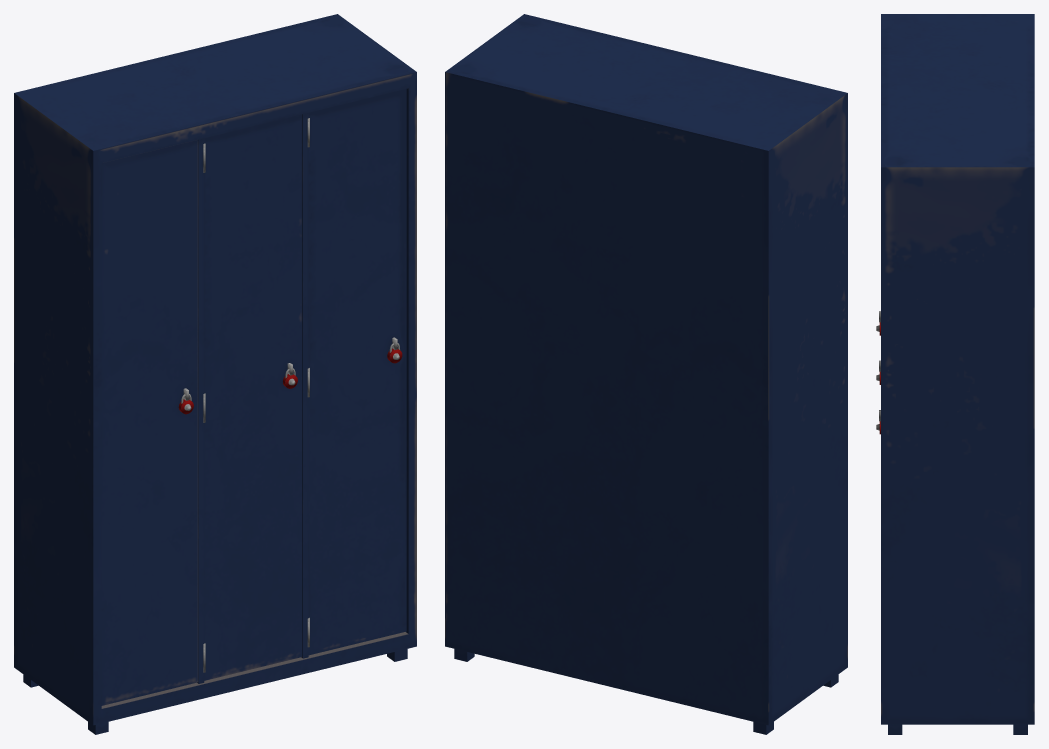
File: Locker.fbx
3 renders of one model, left to right at view 1: azimuth 30°, elevation 25°; view 2: azimuth 150°, elevation 25°; view 3: azimuth 270°, elevation 25°, orthographic. The views are drawn at different scales.
Visible parts, largest first — view 1: locker; view 2: locker; view 3: locker.
Part boxes in pixels (<box>): locker: <box>14,14,416,734</box>; locker: <box>445,14,847,734</box>; locker: <box>876,14,1034,734</box>.
Bounding box in the file's own units: 118 × 205 × 51.57.
